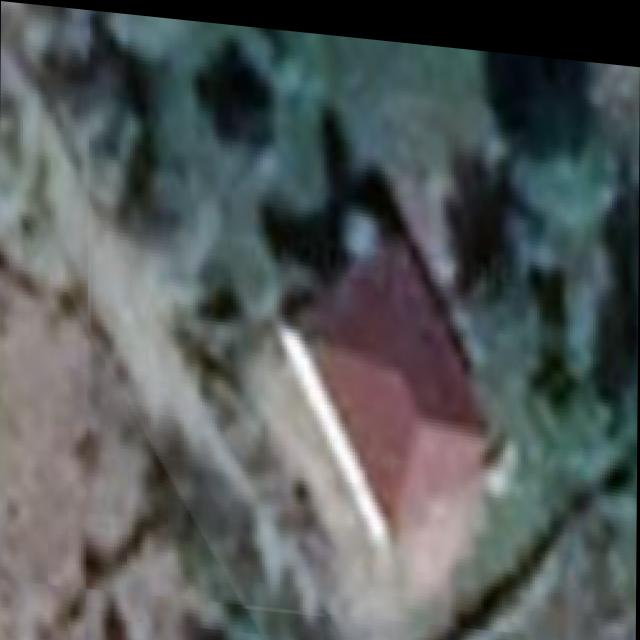Batiment: (311, 234, 483, 523)
